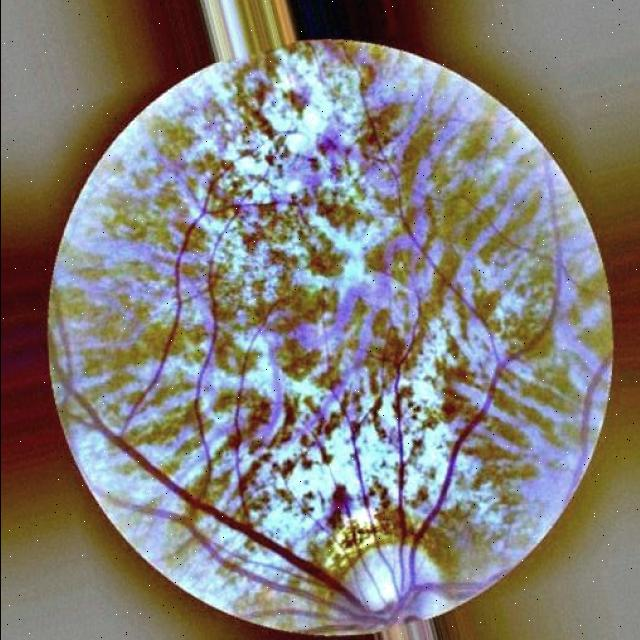Nerves: (407, 173, 561, 592), (73, 392, 367, 608), (393, 356, 407, 581)
Optic Disk: (326, 546, 443, 633)
